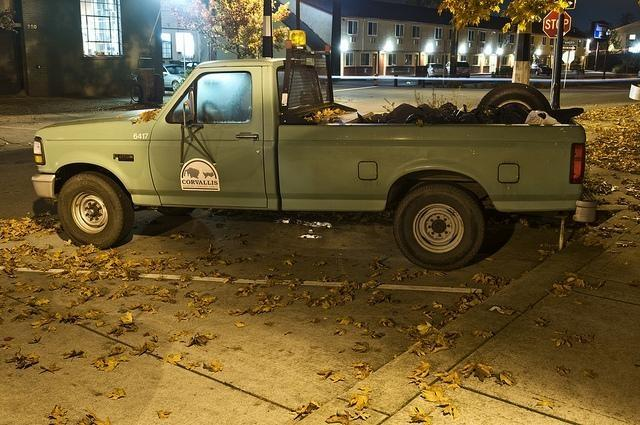car: (163, 64, 187, 91), (446, 61, 470, 79), (425, 63, 448, 78), (530, 64, 553, 76)
truck: (31, 40, 602, 272)
